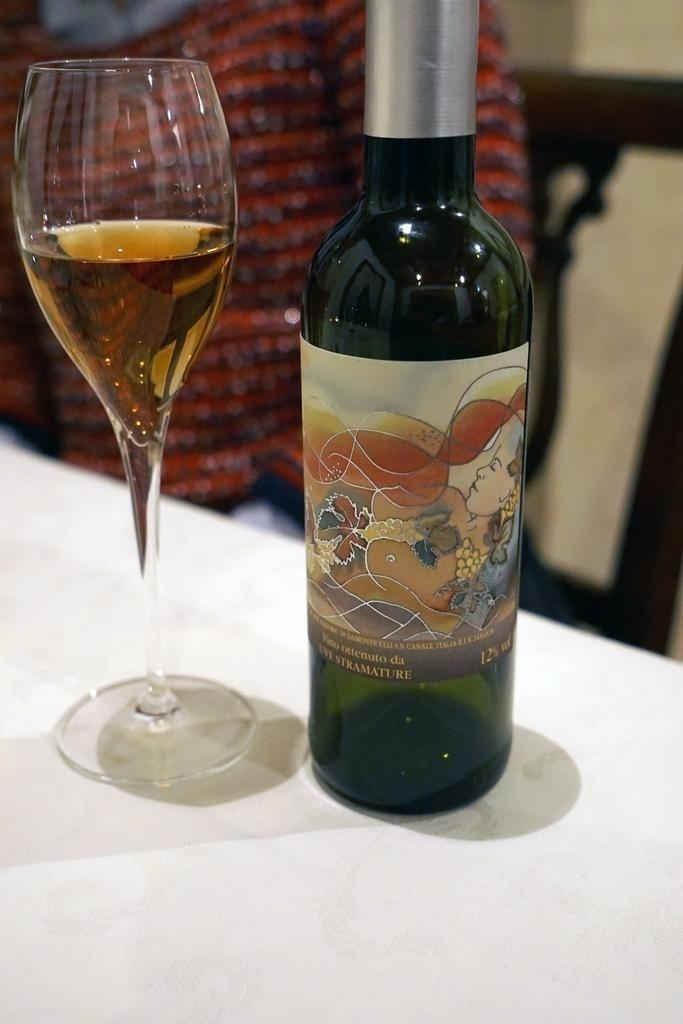bottle-glass: (297, 1, 538, 816)
glass-wine: (15, 55, 260, 798)
